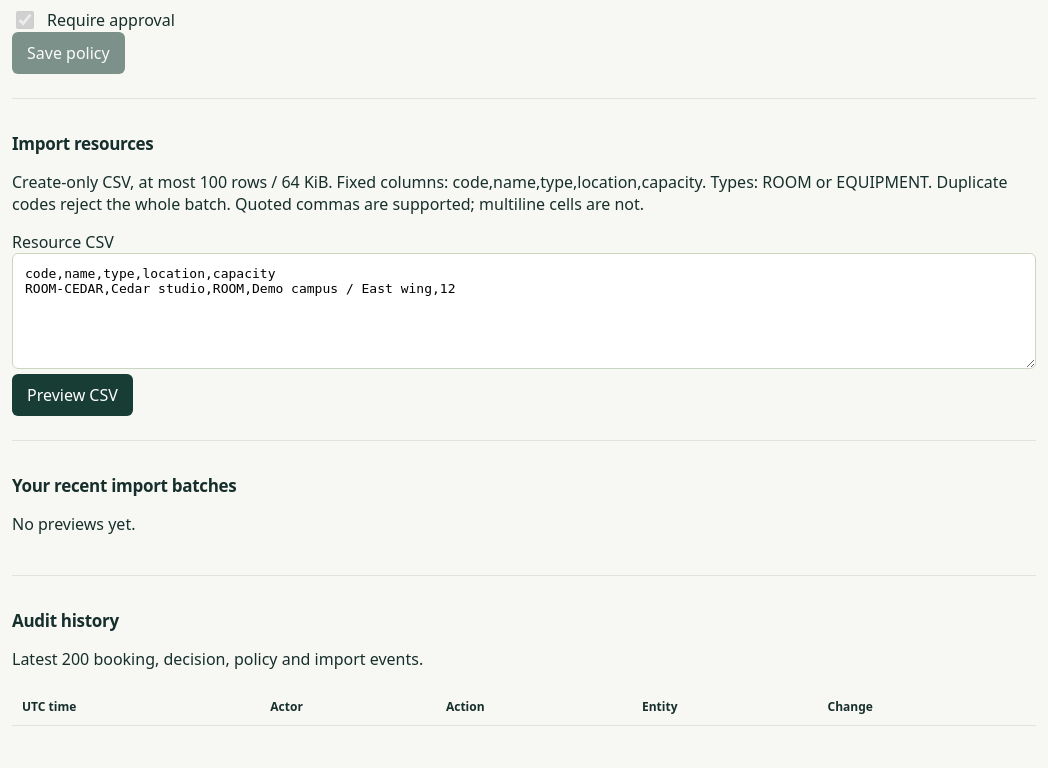
Test case: operations workspace › shows reconciled row errors and cannot apply an invalid batch
(page scrolled)
Step 1. Click the button "Preview CSV" → (72, 395), box [12,374,133,416]
(page scrolled)
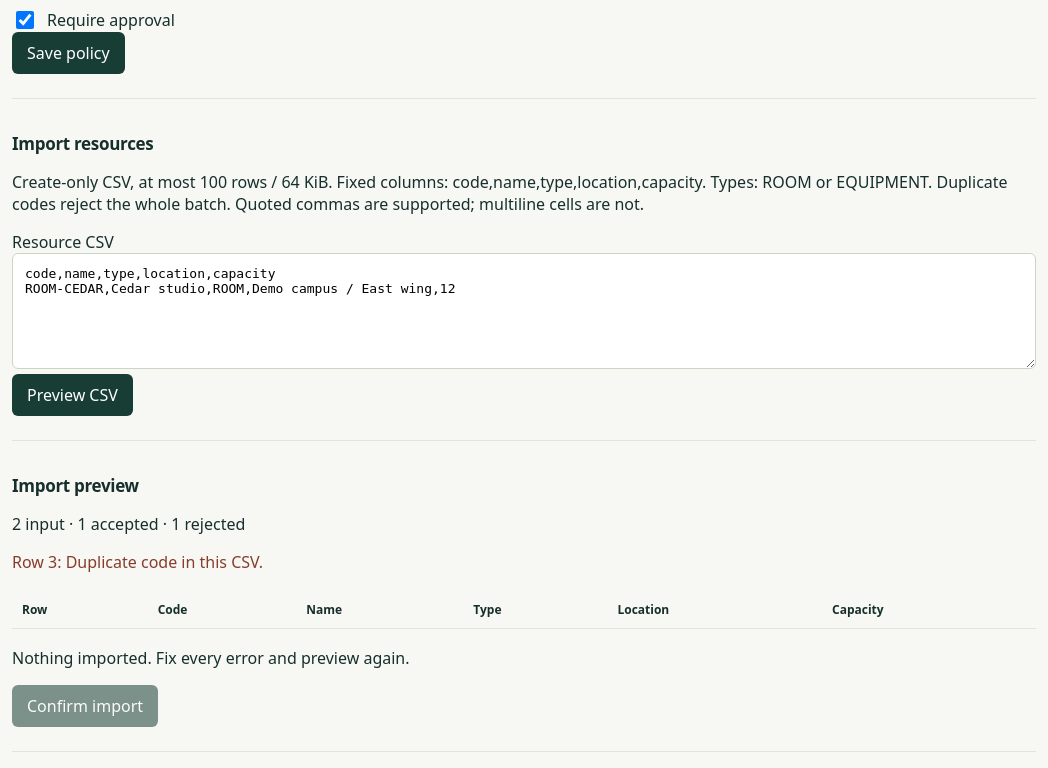
Now the element "Import preview" shows "2 input · 1 accepted · 1 rejected", box [12,440,1036,751]
Now the element "Import preview" shows "Row 3: Duplicate code", box [12,440,1036,751]
Now the button "Confirm import" is disabled, box [12,685,158,727]
Step 2. Replace the text in the text box labelled "Resource CSV" with "revised CSV" → (524, 311), box [12,253,1036,369]
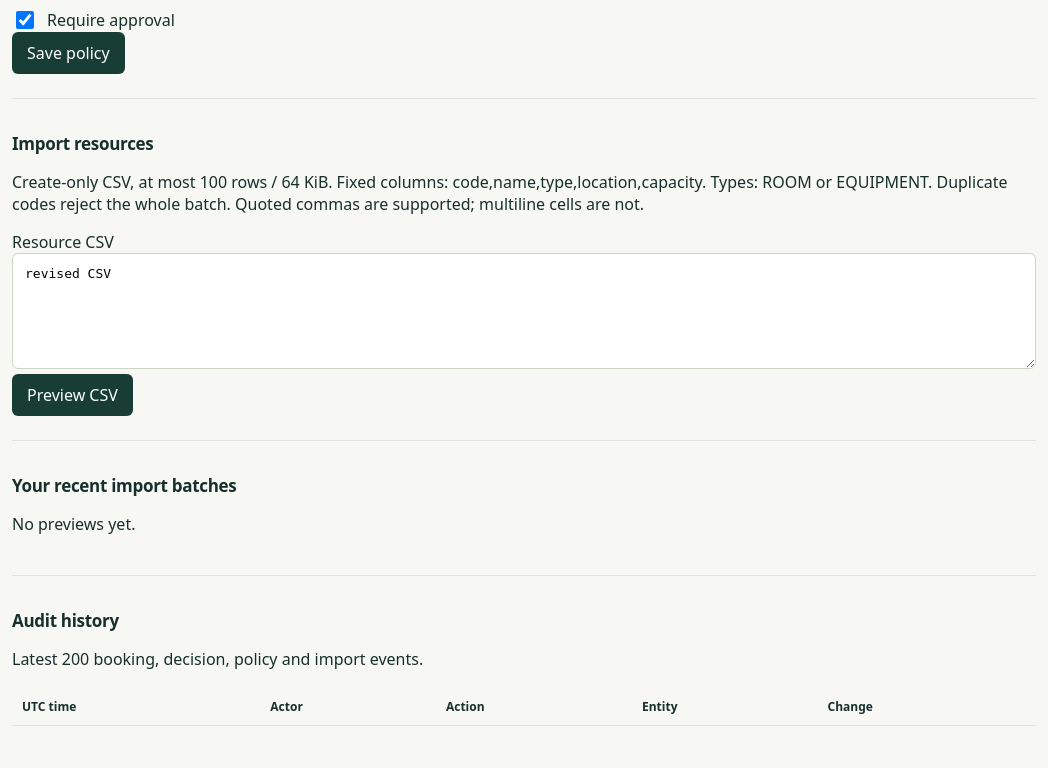
Now the heading "Import preview" is gone
